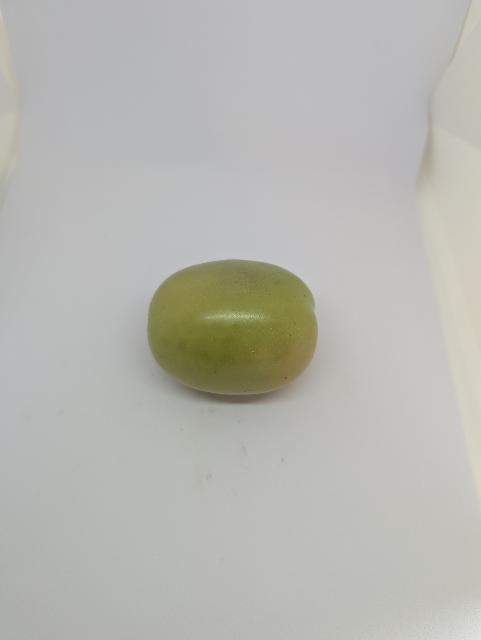green: (141, 250, 329, 402)
